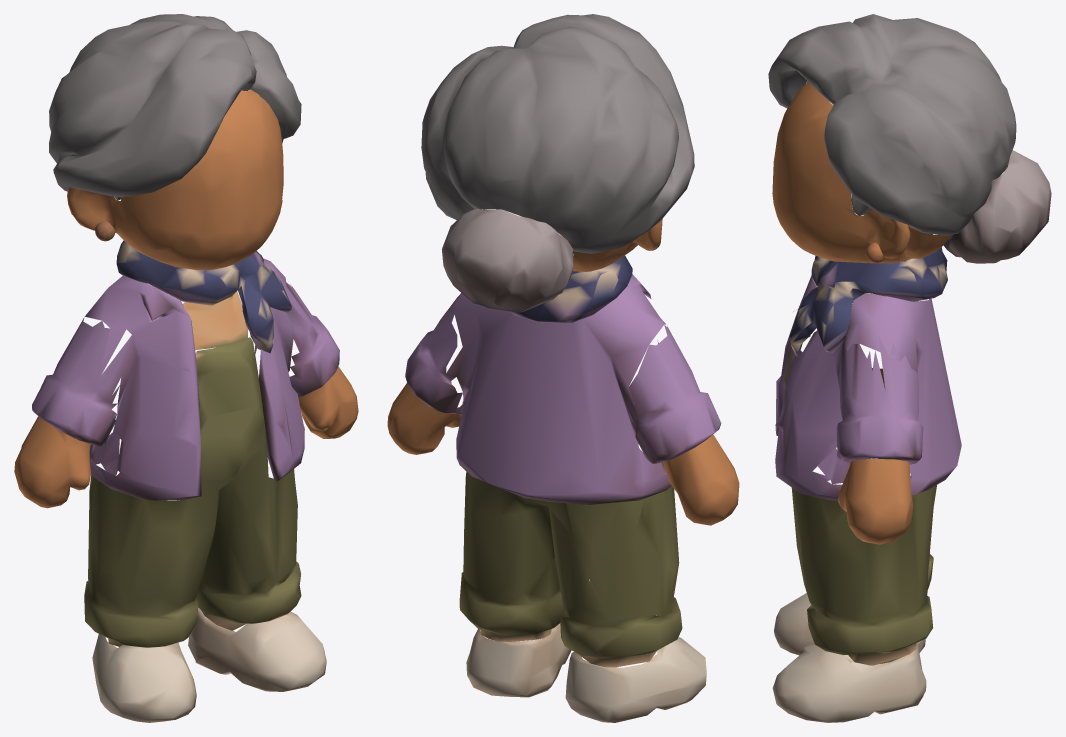
3 renders of one model, left to right at view 1: azimuth 30°, elevation 25°; view 2: azimuth 150°, elevation 25°; view 3: azimuth 270°, elevation 25°, orthographic. The views are drawn at different scales.
Parts seen in each view (by area): view 1: bottom, top, hair, head, sleeve_r, shoe_l, shoe_r, hand_r, sleeve_l, hand_l; view 2: hair, top, bottom, acc_head_0, sleeve_r, shoe_r, shoe_l, hand_r, sleeve_l, hand_l, head; view 3: hair, top, bottom, head, sleeve_l, shoe_l, acc_head_0, hand_l, shoe_r.
Part boxes in pixels (bbox=[...]): bottom: bbox=[84, 337, 301, 647]; top: bbox=[85, 240, 304, 500]; hair: bbox=[49, 14, 301, 200]; head: bbox=[67, 89, 283, 270]; sleeve_r: bbox=[32, 317, 135, 479]; shoe_l: bbox=[188, 607, 326, 691]; shoe_r: bbox=[92, 634, 196, 722]; hand_r: bbox=[14, 416, 90, 508]; sleeve_l: bbox=[286, 282, 339, 429]; hand_l: bbox=[298, 366, 358, 438]; hair: bbox=[421, 14, 694, 253]; top: bbox=[446, 255, 671, 504]; bottom: bbox=[459, 472, 682, 667]; acc_head_0: bbox=[442, 208, 573, 312]; sleeve_r: bbox=[629, 325, 721, 481]; shoe_r: bbox=[565, 637, 706, 722]; shoe_l: bbox=[466, 623, 571, 697]; hand_r: bbox=[662, 434, 739, 525]; sleeve_l: bbox=[405, 293, 463, 415]; hand_l: bbox=[387, 383, 463, 454]; head: bbox=[572, 219, 662, 271]; hair: bbox=[768, 14, 1016, 235]; top: bbox=[775, 233, 961, 500]; bottom: bbox=[784, 336, 936, 665]; head: bbox=[772, 81, 950, 263]; sleeve_l: bbox=[813, 336, 923, 484]; shoe_l: bbox=[772, 642, 926, 722]; acc_head_0: bbox=[943, 150, 1051, 263]; hand_l: bbox=[838, 458, 913, 544]; shoe_r: bbox=[774, 593, 925, 665].
Bounding box in the file's own units: 0.5517 × 1.03 × 0.4061.
